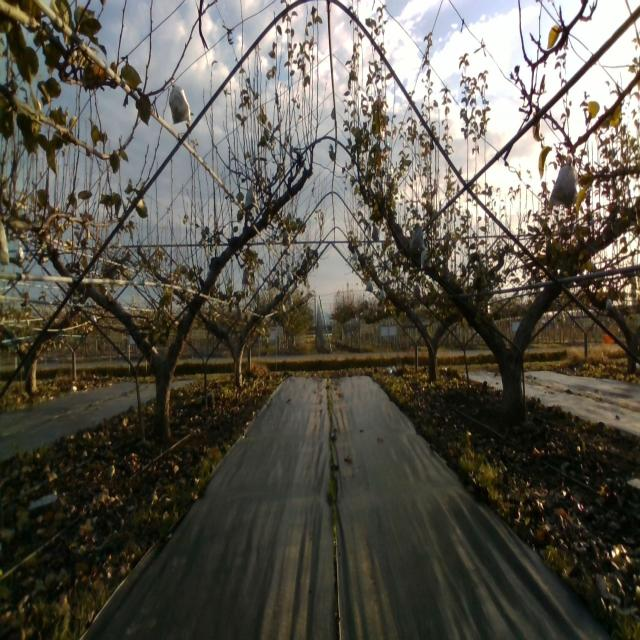pearbags: (549, 153, 578, 209), (169, 79, 191, 125), (243, 182, 259, 211), (409, 224, 426, 250), (420, 250, 432, 270), (242, 267, 252, 286)
